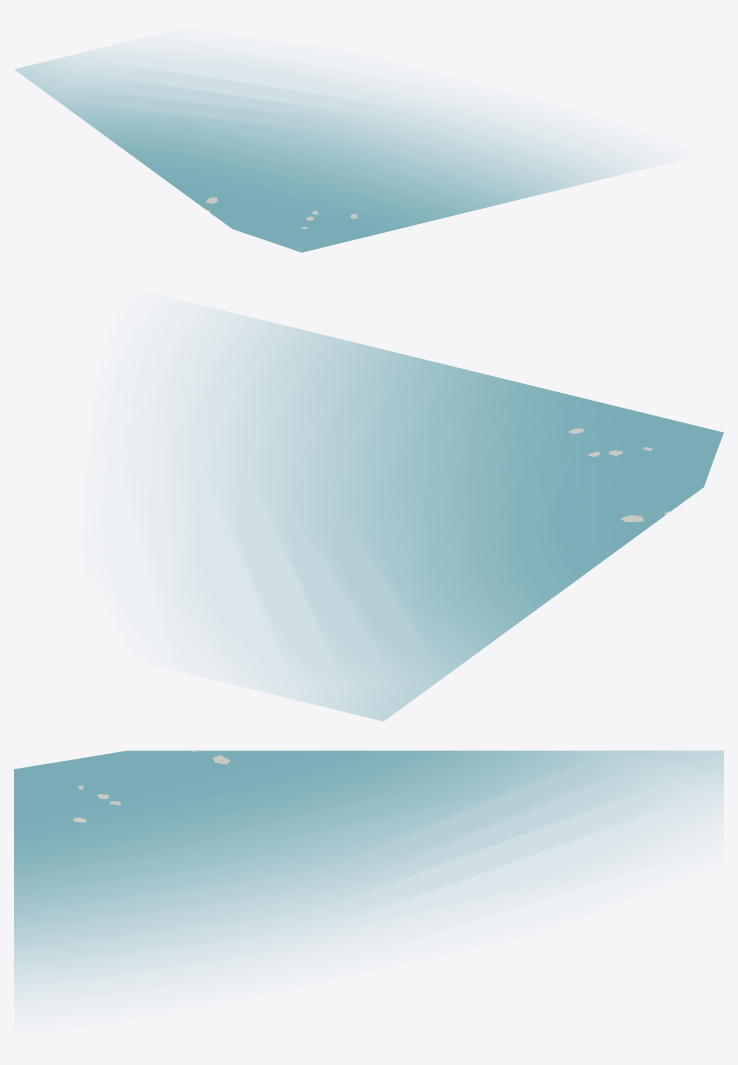
The picture shows the model from 3 angles, top to bottom: view 1: azimuth 30°, elevation 25°; view 2: azimuth 150°, elevation 25°; view 3: azimuth 270°, elevation 25°; orthographic projection. The views are drawn at different scales.
Visible parts, largest first — view 1: city; view 2: city; view 3: city.
Boxes of the visible parts, x1=… form: city: x1=14, y1=48, x2=644, y2=252; city: x1=174, y1=310, x2=723, y2=721; city: x1=14, y1=750, x2=723, y2=997.
Bounding box in the file's own units: 500 × 0.18 × 500.
